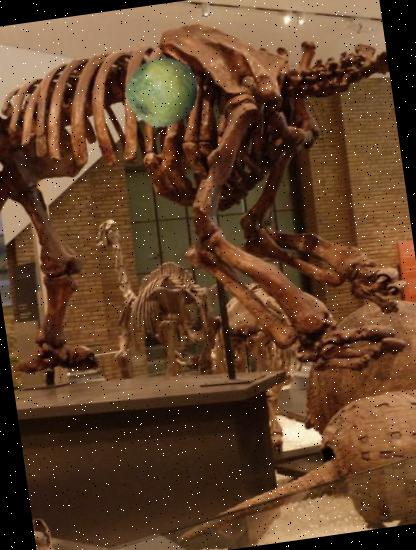Limes: (122, 51, 204, 133)
